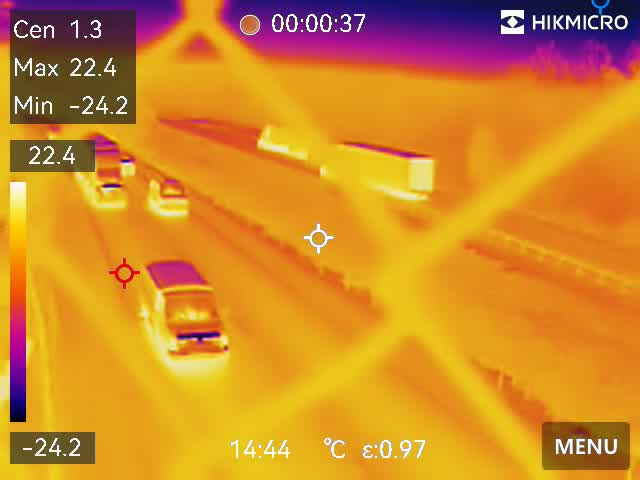heavyTruck: (317, 139, 436, 205), (67, 128, 125, 214), (259, 122, 326, 157)
largeCar: (138, 256, 230, 375), (144, 171, 196, 219)
vehicle: (119, 157, 141, 177)
